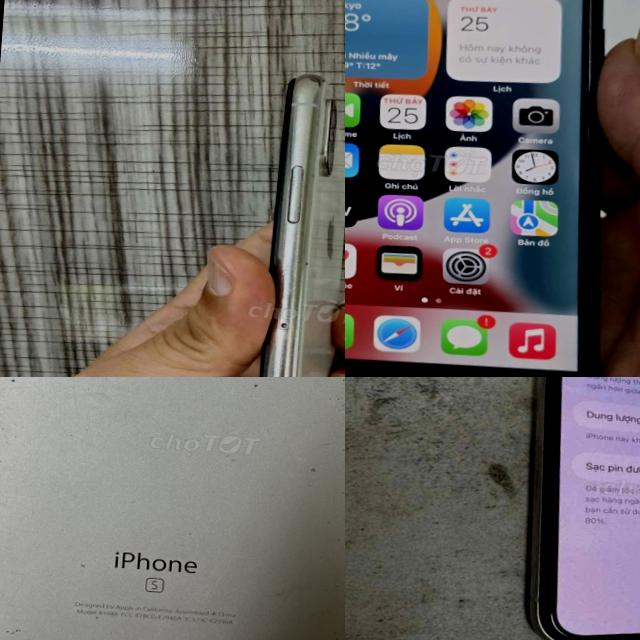gen_11: (529, 377, 640, 640)
gen_6: (0, 377, 345, 640)
gen_7_8: (345, 0, 640, 377)
gen_x_xs: (249, 73, 345, 377)
